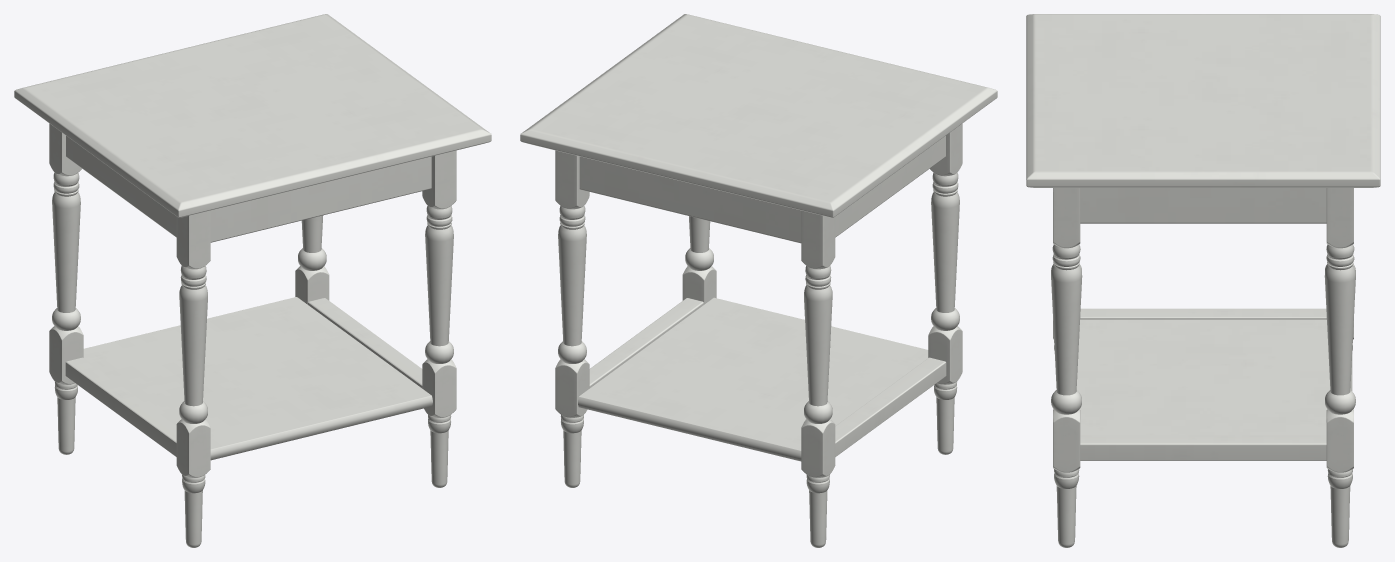
The model's file is abo-B07DBB7831.glb.
3 views of the same model, side by side, from view 1: azimuth 30°, elevation 25°; view 2: azimuth 150°, elevation 25°; view 3: azimuth 270°, elevation 25° (orthographic). The views are drawn at different scales.
Bounding box in the file's own units: 0.505 × 0.555 × 0.459.
1 material, 1 textured.
